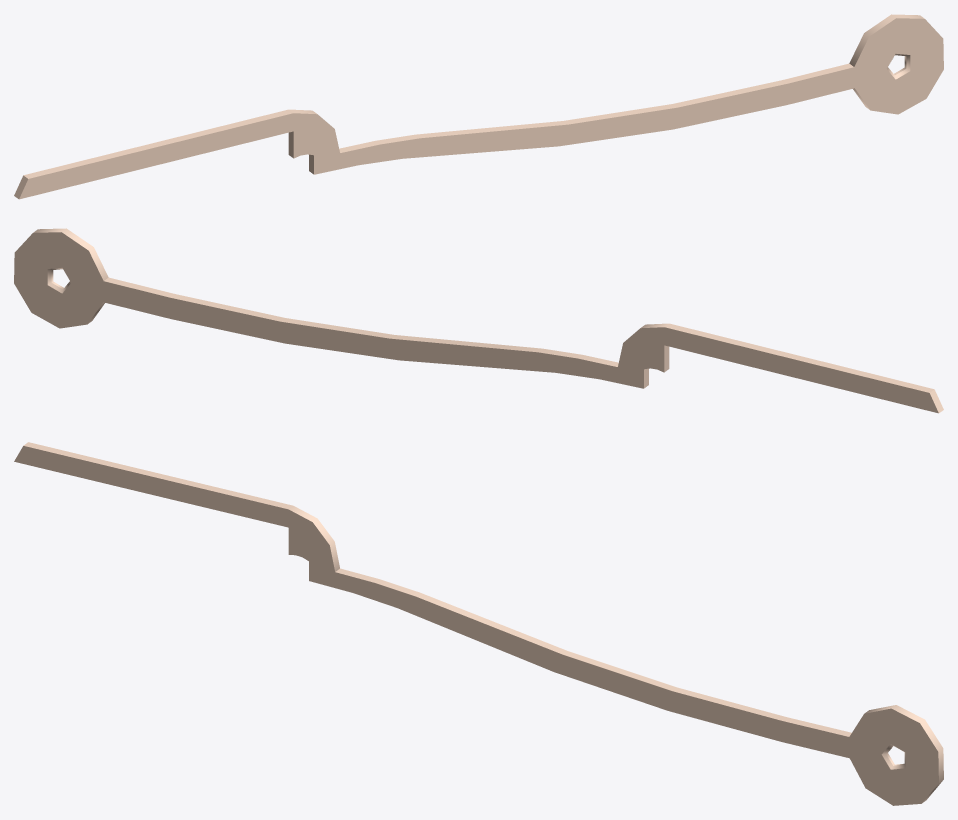
The model's file is Bras Gdetente Heures.obj.
3 views of the same model, one above another, from view 1: azimuth 30°, elevation 25°; view 2: azimuth 150°, elevation 25°; view 3: azimuth 330°, elevation 25° (orthographic).
Parts seen in each view (by area): view 1: Face_2, Face_8, Face_11, Face_1, Face_9; view 2: Face_3, Face_8, Face_11, Face_1, Face_9; view 3: Face_2, Face_8, Face_11, Face_1.
Part boxes in pixels (left/top/right/bottom): Face_2: left=19, top=18, right=943, bottom=199; Face_8: left=455, top=80, right=786, bottom=134; Face_11: left=24, top=109, right=293, bottom=178; Face_1: left=849, top=14, right=924, bottom=110; Face_9: left=339, top=131, right=459, bottom=152; Face_3: left=14, top=232, right=938, bottom=413; Face_8: left=171, top=294, right=502, bottom=348; Face_11: left=664, top=323, right=933, bottom=392; Face_1: left=33, top=228, right=108, bottom=324; Face_9: left=498, top=345, right=618, bottom=366; Face_2: left=14, top=446, right=938, bottom=805; Face_8: left=455, top=608, right=786, bottom=720; Face_11: left=23, top=442, right=292, bottom=509; Face_1: left=864, top=705, right=943, bottom=802.
Bounding box in the file's own units: 0.1596 × 0.0246 × 0.0015.
